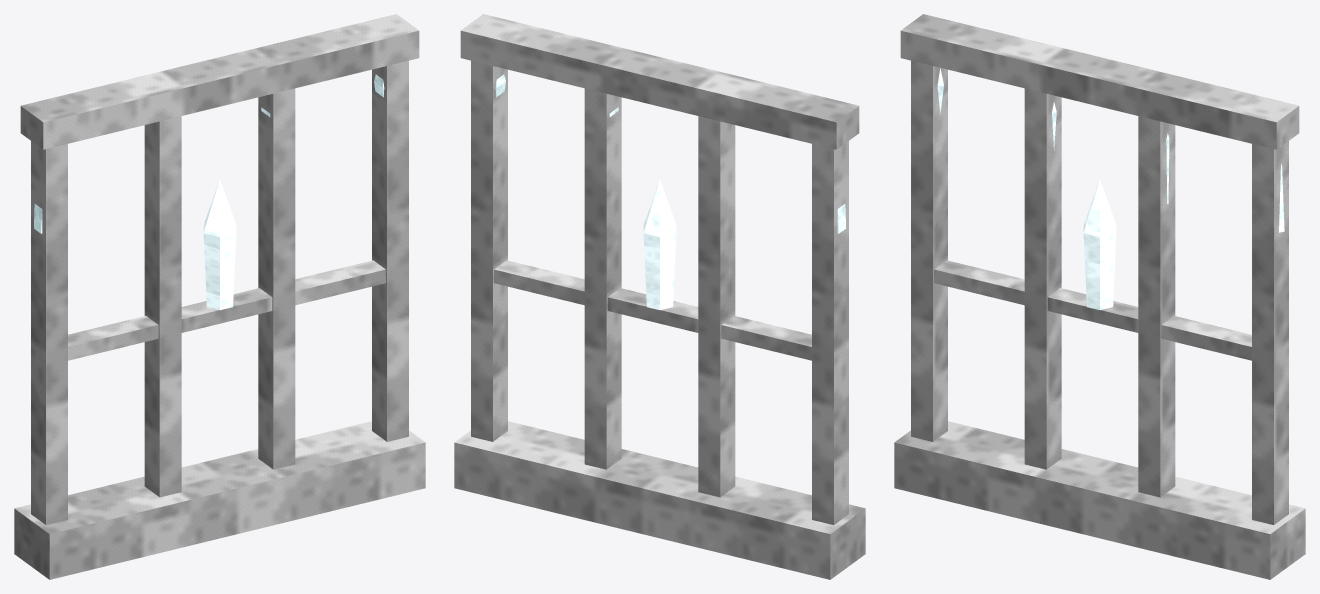
The model's file is furniture-crystal-divider.glb.
3 renders of one model, left to right at view 1: azimuth 30°, elevation 25°; view 2: azimuth 150°, elevation 25°; view 3: azimuth 330°, elevation 25°, orthographic.
Parts seen in each view (by area): view 1: base, top, post--0.26, post-0.26, post--0.78, post-0.78, mid, center-gem; view 2: base, top, post--0.26, post-0.26, post--0.78, post-0.78, mid, center-gem; view 3: base, top, post--0.26, post-0.26, post-0.78, post--0.78, mid, center-gem.
Part boxes in pixels (left/top/right/bottom): base: left=14, top=421, right=425, bottom=579; top: left=20, top=14, right=419, bottom=149; post--0.26: left=144, top=116, right=181, bottom=497; post-0.26: left=258, top=88, right=295, bottom=469; post--0.78: left=31, top=141, right=67, bottom=524; post-0.78: left=372, top=60, right=408, bottom=441; mid: left=68, top=260, right=385, bottom=360; center-gem: left=203, top=179, right=236, bottom=310; base: left=454, top=421, right=865, bottom=579; top: left=460, top=14, right=859, bottom=149; post--0.26: left=698, top=116, right=735, bottom=497; post-0.26: left=584, top=88, right=621, bottom=469; post--0.78: left=812, top=141, right=848, bottom=524; post-0.78: left=471, top=60, right=507, bottom=441; mid: left=494, top=260, right=811, bottom=360; center-gem: left=643, top=179, right=676, bottom=310; base: left=894, top=421, right=1305, bottom=579; top: left=900, top=14, right=1299, bottom=149; post--0.26: left=1024, top=88, right=1061, bottom=469; post-0.26: left=1138, top=116, right=1175, bottom=497; post-0.78: left=1252, top=141, right=1288, bottom=524; post--0.78: left=911, top=60, right=947, bottom=441; mid: left=934, top=260, right=1251, bottom=360; center-gem: left=1083, top=179, right=1116, bottom=310.
Bounding box in the file's own units: 1.72 × 1.98 × 0.28.
Materials: 5 (5 with a texture image).
